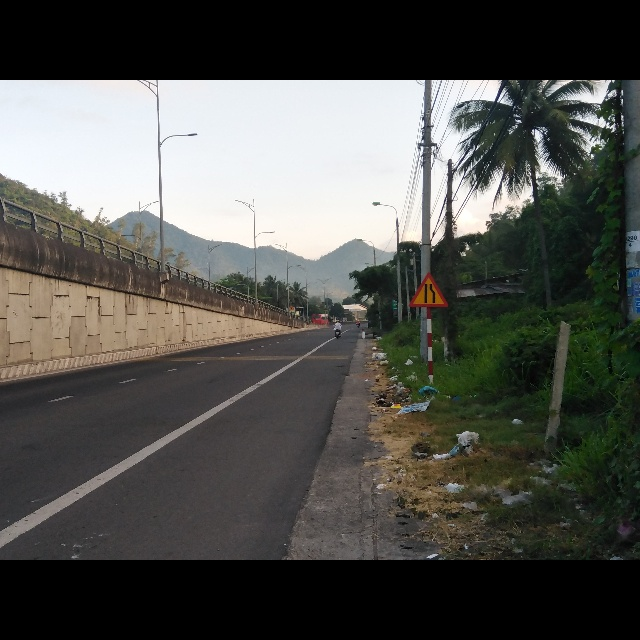Đường bị hẹp bên phải: (409, 273, 448, 307)
